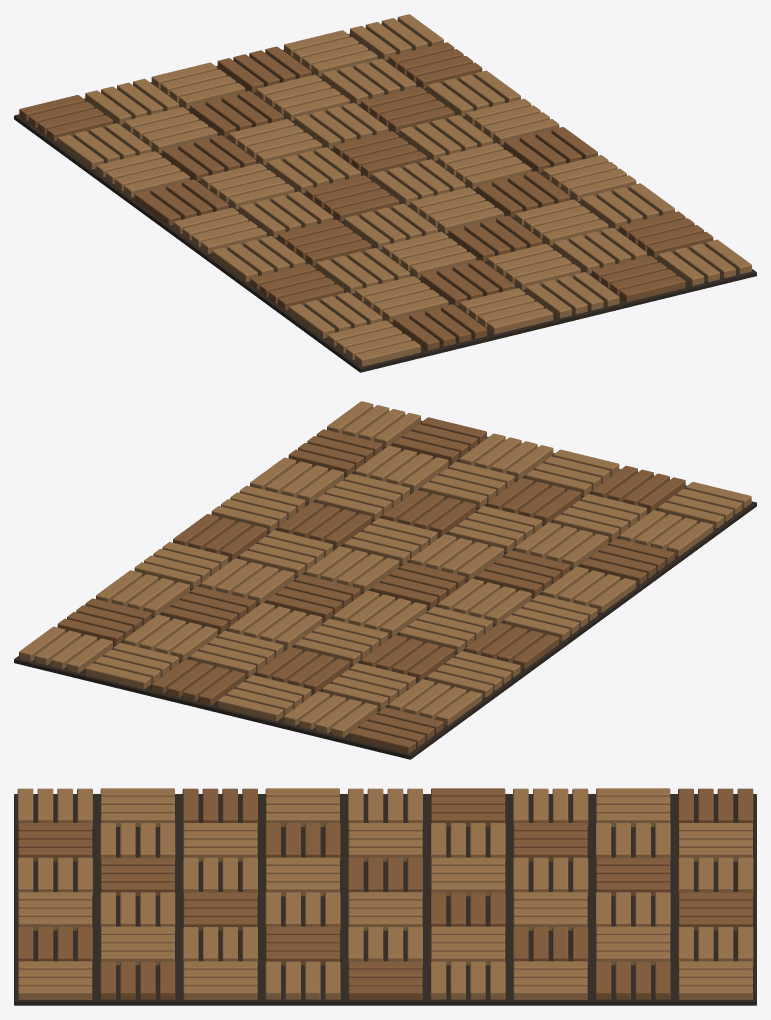
The model's file is acacia-deck.glb.
The picture shows the model from 3 angles, top to bottom: view 1: azimuth 30°, elevation 25°; view 2: azimuth 150°, elevation 25°; view 3: azimuth 270°, elevation 25°; orthographic projection. The views are drawn at different scales.
Visible parts, largest first — view 1: Black tile underlay; view 2: Black tile underlay; view 3: Black tile underlay.
Part boxes in pixels (x1,y1,x2,y2): Black tile underlay: (14, 14, 756, 372); Black tile underlay: (14, 401, 756, 759); Black tile underlay: (14, 788, 756, 1005).
Bounding box in the file's own units: 1.64 × 0.044 × 2.48.
